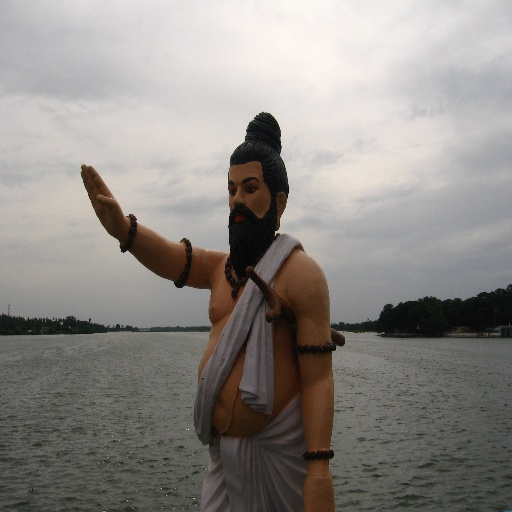hand: (74, 157, 152, 255), (303, 470, 334, 511)
